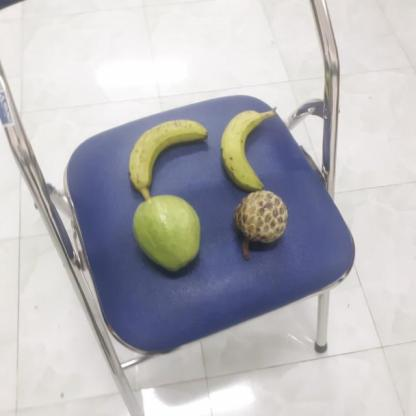annona: (232, 189, 289, 245)
banana: (126, 119, 208, 192), (216, 110, 274, 190)
